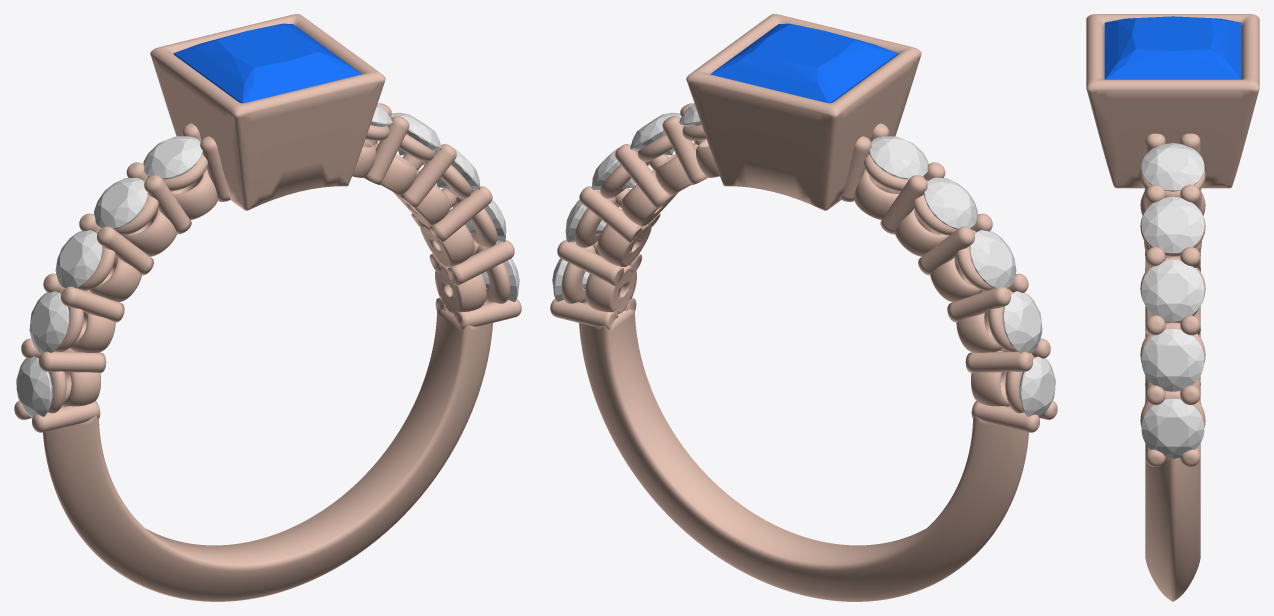
File: bluesapphire-princess-rosegold-bezelset-knifeedge-11stone.glb
3 renders of one model, left to right at view 1: azimuth 30°, elevation 25°; view 2: azimuth 150°, elevation 25°; view 3: azimuth 270°, elevation 25°, orthographic.
Visible parts, largest first — view 1: metal, stone, side.002, side.003, side.001, side.004, side, side.006; view 2: metal, stone, side.002, side.003, side.001, side.004, side, side.006; view 3: metal, stone, side.008, side.007, side.009, side.006, side.005.
Boxes of the visible parts, x1,y1,x2,y2 form: metal: [14, 14, 521, 601]; stone: [173, 23, 361, 103]; side.002: [55, 230, 102, 288]; side.003: [94, 177, 147, 229]; side.001: [29, 291, 69, 353]; side.004: [143, 136, 202, 179]; side: [16, 356, 52, 417]; side.006: [390, 112, 441, 155]; metal: [550, 14, 1057, 601]; stone: [710, 23, 898, 103]; side.002: [969, 230, 1016, 288]; side.003: [924, 177, 977, 229]; side.001: [1002, 291, 1042, 353]; side.004: [869, 136, 928, 179]; side: [1019, 356, 1055, 417]; side.006: [630, 112, 681, 155]; metal: [1086, 14, 1259, 601]; stone: [1104, 16, 1241, 79]; side.008: [1141, 328, 1204, 391]; side.007: [1141, 259, 1204, 321]; side.009: [1141, 398, 1204, 458]; side.006: [1141, 196, 1204, 253]; side.005: [1141, 143, 1204, 191].
Size of the model in its own units: 22.2 by 23.85 by 6.89.
